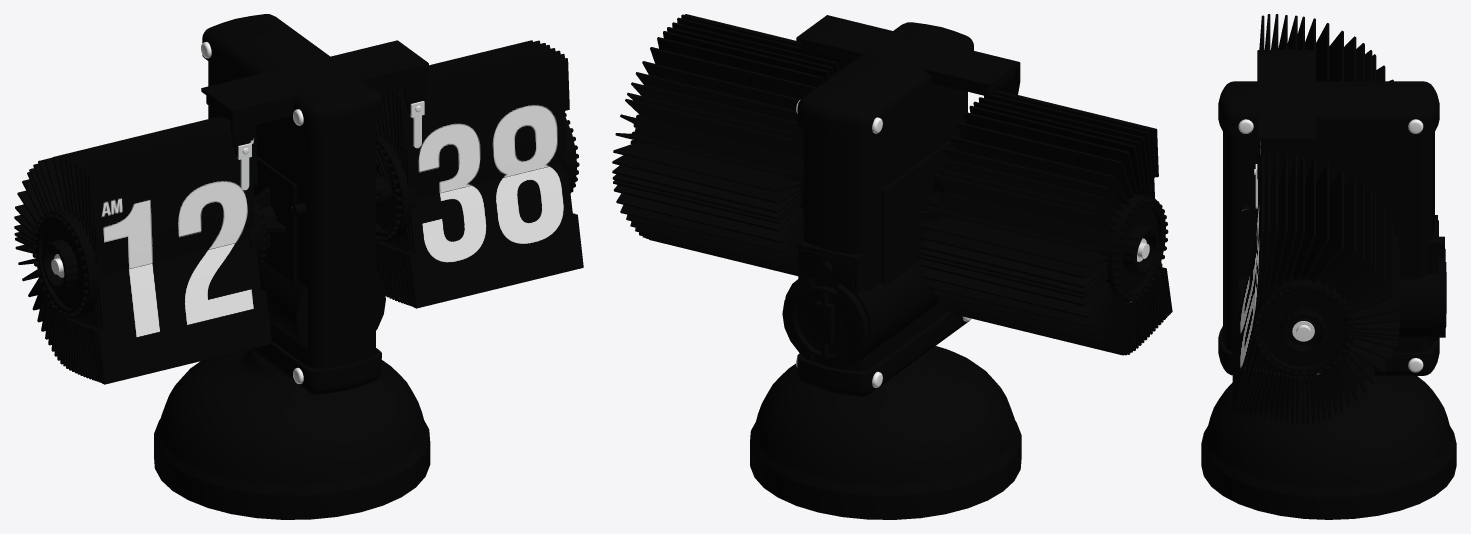
File: MEGA_PACK_decor__clock-68955_Frame_Black.glb
The picture shows the model from 3 angles, left to right: view 1: azimuth 30°, elevation 25°; view 2: azimuth 150°, elevation 25°; view 3: azimuth 270°, elevation 25°; orthographic projection. The views are drawn at different scales.
Visible parts, largest first — view 1: clock-68955_Frame_Black; view 2: clock-68955_Frame_Black; view 3: clock-68955_Frame_Black.
Boxes of the visible parts, x1,y1,x2,y2 form: clock-68955_Frame_Black: [14, 14, 583, 519]; clock-68955_Frame_Black: [612, 14, 1172, 519]; clock-68955_Frame_Black: [1201, 14, 1456, 519].
Bounding box in the file's own units: 0.21 × 0.1608 × 0.1.
Materials: 1 (1 with a texture image).
